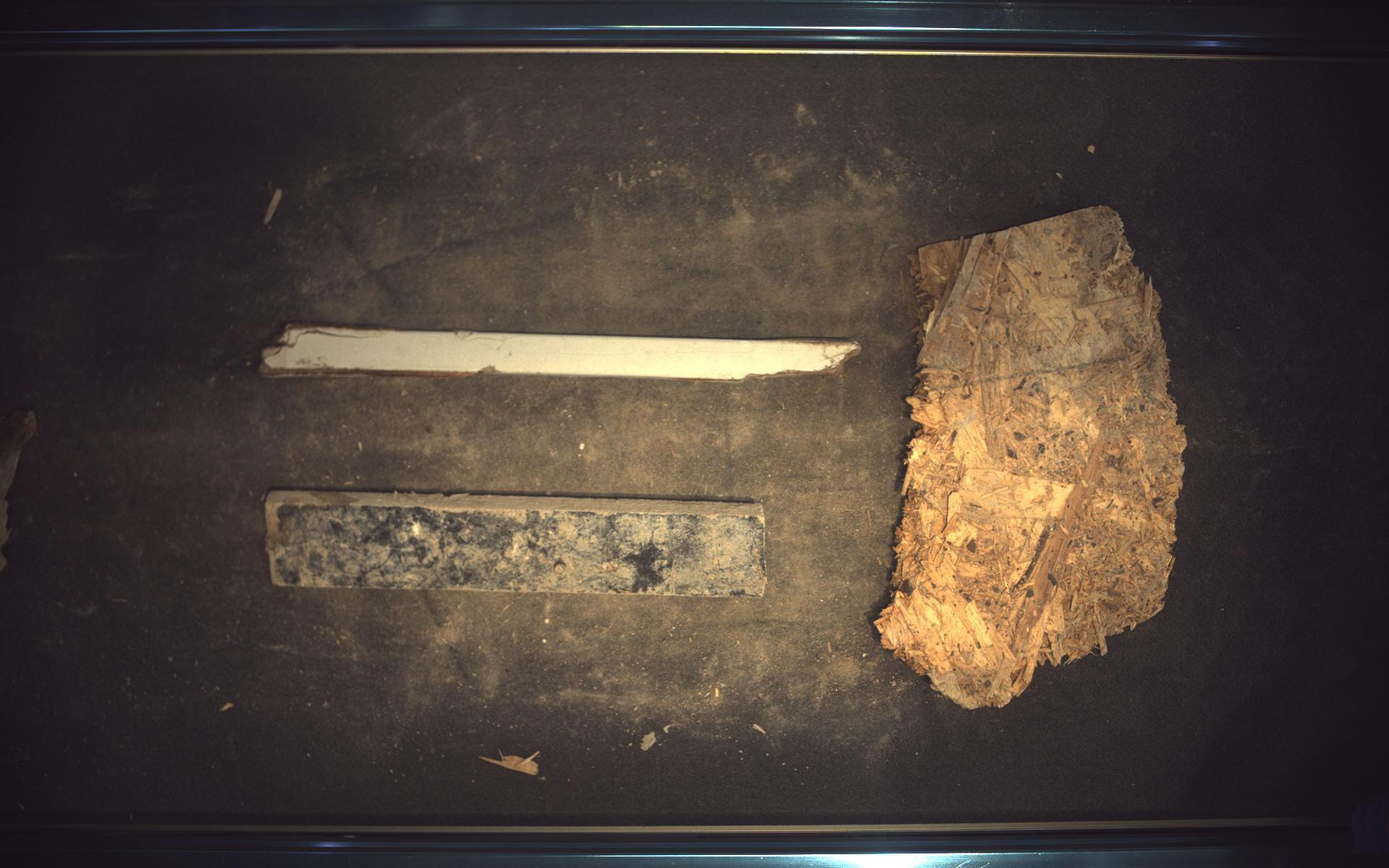wood: (878, 206, 1189, 709), (266, 491, 766, 597), (259, 324, 860, 381)
